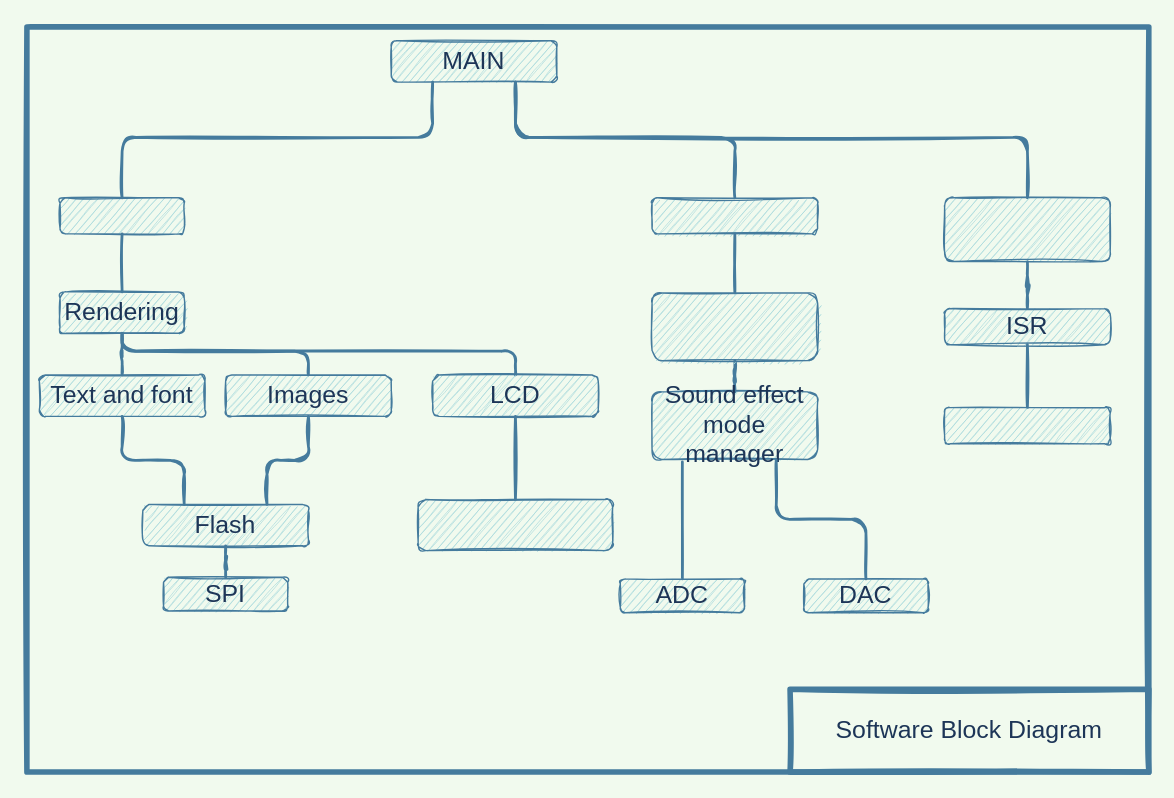
Image size: 1174x798. Some labels were removed from this diagram. The shapes that lost their labels are listed below. From the top down, each one's centre as x and y in pixels, then its label:
point (121, 215): Display
point (734, 215): Sensor
point (1026, 229): Push button/Switch
point (734, 326): Signal processing
point (1026, 425): GPIO
point (515, 524): Parallel interface
